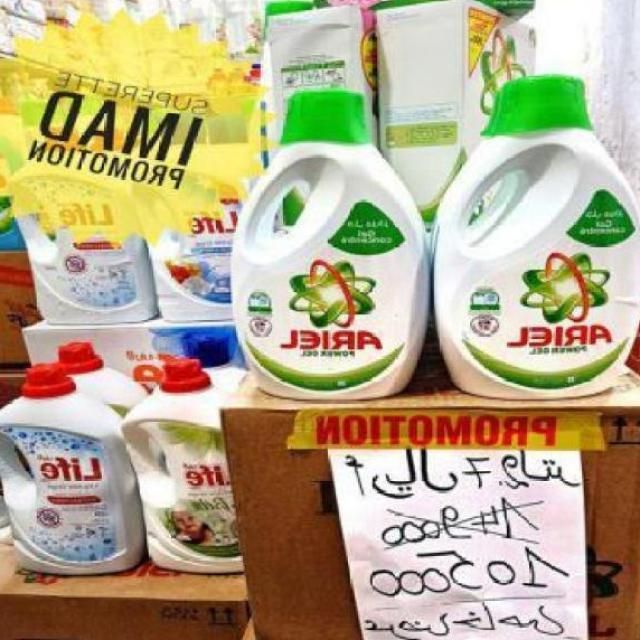Detergent: (430, 70, 640, 398), (241, 84, 426, 396)
